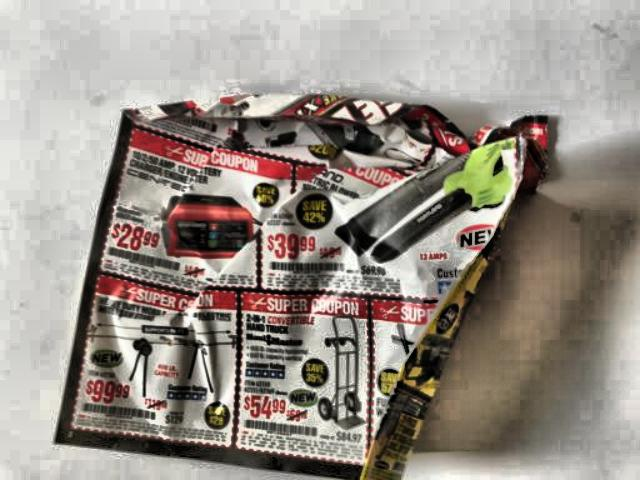Paper: (51, 89, 552, 480)
